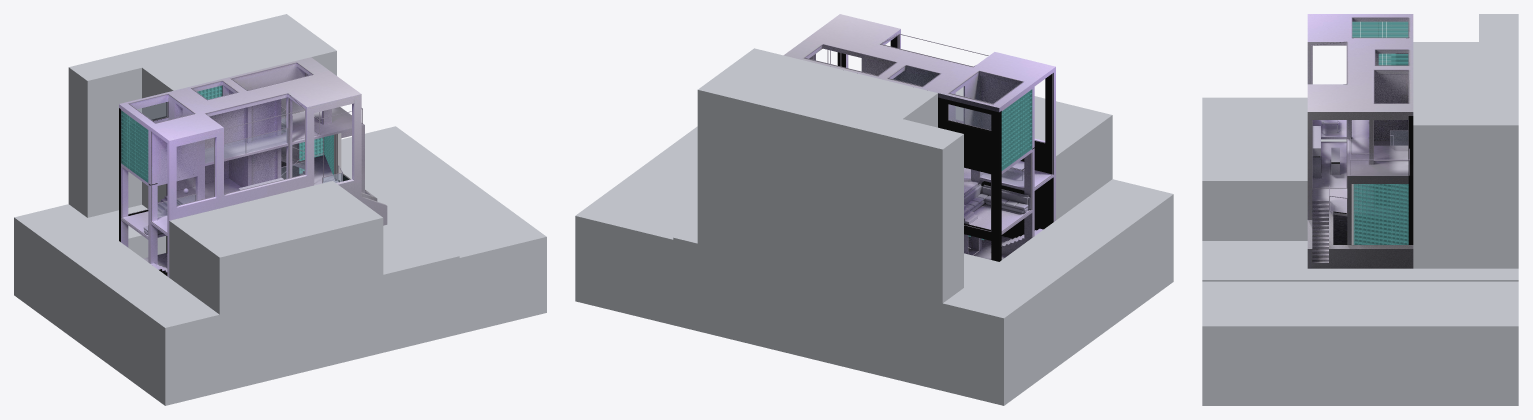
Rendered from townhouse.glb.
3 views of the same model, side by side, from view 1: azimuth 30°, elevation 25°; view 2: azimuth 150°, elevation 25°; view 3: azimuth 270°, elevation 25° (orthographic). The views are drawn at different scales.
Visible parts, largest first — view 1: Ground, outer walls clean, cleanceiling, cleaninnerwalls, floorplates clean, columns clean, glassblockclean, glassmetalframe, Railing glass; view 2: Ground, cleanceiling, outer walls clean, cleaninnerwalls, floorplates clean, glassblockclean, glassmetalframe, columns clean, cleanfurniture, Railing glass; view 3: Ground, cleanceiling, floorplates clean, glassblockclean, cleaninnerwalls, outer walls clean, glassmetalframe, stairsclean, Furntiture, columns clean, FOundation/Pool.
Boxes of the visible parts, <box> form: Ground: <box>14,14,546,405</box>; outer walls clean: <box>119,66,387,277</box>; cleanceiling: <box>119,57,374,196</box>; cleaninnerwalls: <box>157,90,377,201</box>; floorplates clean: <box>121,107,364,239</box>; columns clean: <box>148,97,364,264</box>; glassblockclean: <box>121,85,333,182</box>; glassmetalframe: <box>121,62,362,236</box>; Railing glass: <box>138,102,342,217</box>; Ground: <box>575,48,1173,405</box>; cleanceiling: <box>783,14,1055,112</box>; outer walls clean: <box>837,33,1055,261</box>; cleaninnerwalls: <box>865,59,1018,254</box>; floorplates clean: <box>955,119,1053,234</box>; glassblockclean: <box>1001,89,1032,170</box>; glassmetalframe: <box>804,34,1052,255</box>; columns clean: <box>809,54,1034,250</box>; cleanfurniture: <box>964,184,1030,213</box>; Railing glass: <box>949,104,1023,186</box>; Ground: <box>1202,14,1518,405</box>; cleanceiling: <box>1307,14,1413,268</box>; floorplates clean: <box>1312,120,1408,244</box>; glassblockclean: <box>1352,21,1408,244</box>; cleaninnerwalls: <box>1329,53,1408,268</box>; outer walls clean: <box>1307,45,1413,268</box>; glassmetalframe: <box>1311,17,1409,213</box>; stairsclean: <box>1312,184,1406,268</box>; Furntiture: <box>1312,120,1339,178</box>; columns clean: <box>1329,116,1373,244</box>; FOundation/Pool: <box>1333,211,1390,244</box>.
Size of the model in its own units: 32 by 17.25 by 21.95.
Materials: 15 (9 with a texture image).
